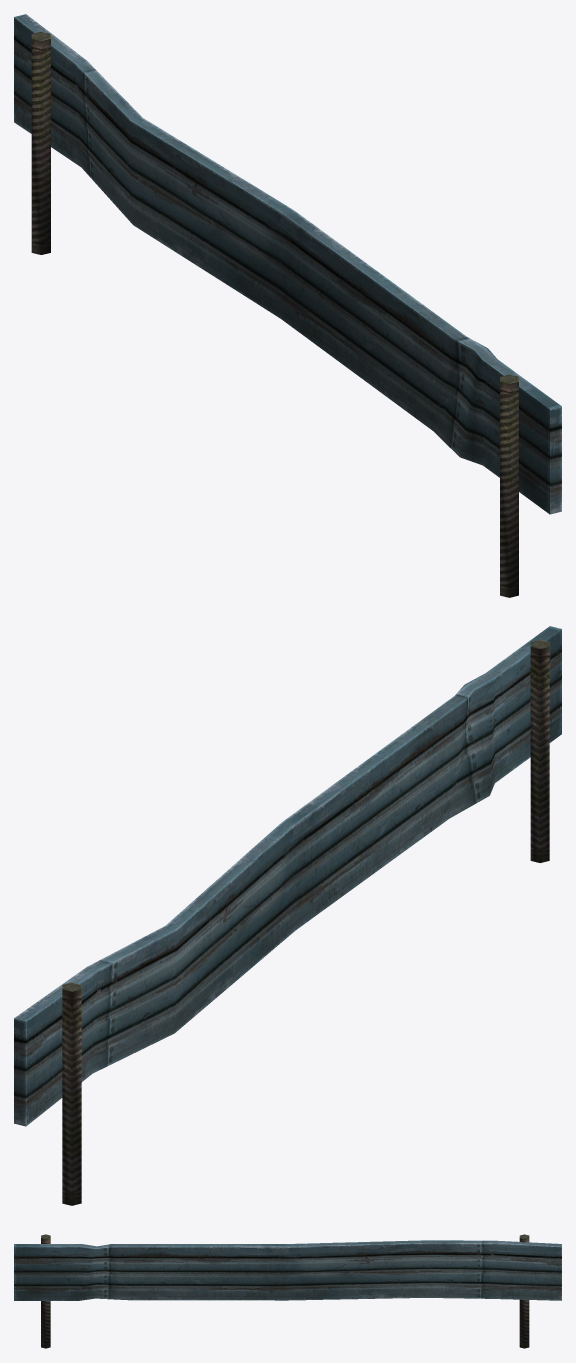
The model's file is Prop_Pz02.glb.
3 renders of one model, top to bottom at view 1: azimuth 30°, elevation 25°; view 2: azimuth 150°, elevation 25°; view 3: azimuth 270°, elevation 25°, orthographic. The views are drawn at different scales.
Parts seen in each view (by area): view 1: xiutz_pz_02; view 2: xiutz_pz_02; view 3: xiutz_pz_02.
Part boxes in pixels (x1,y1,x2,y2): xiutz_pz_02: (14,14,561,597); xiutz_pz_02: (14,626,561,1205); xiutz_pz_02: (14,1234,561,1348).
Size of the model in its own units: 0.2937 by 1.64 by 7.42.
1 material, 1 textured.
